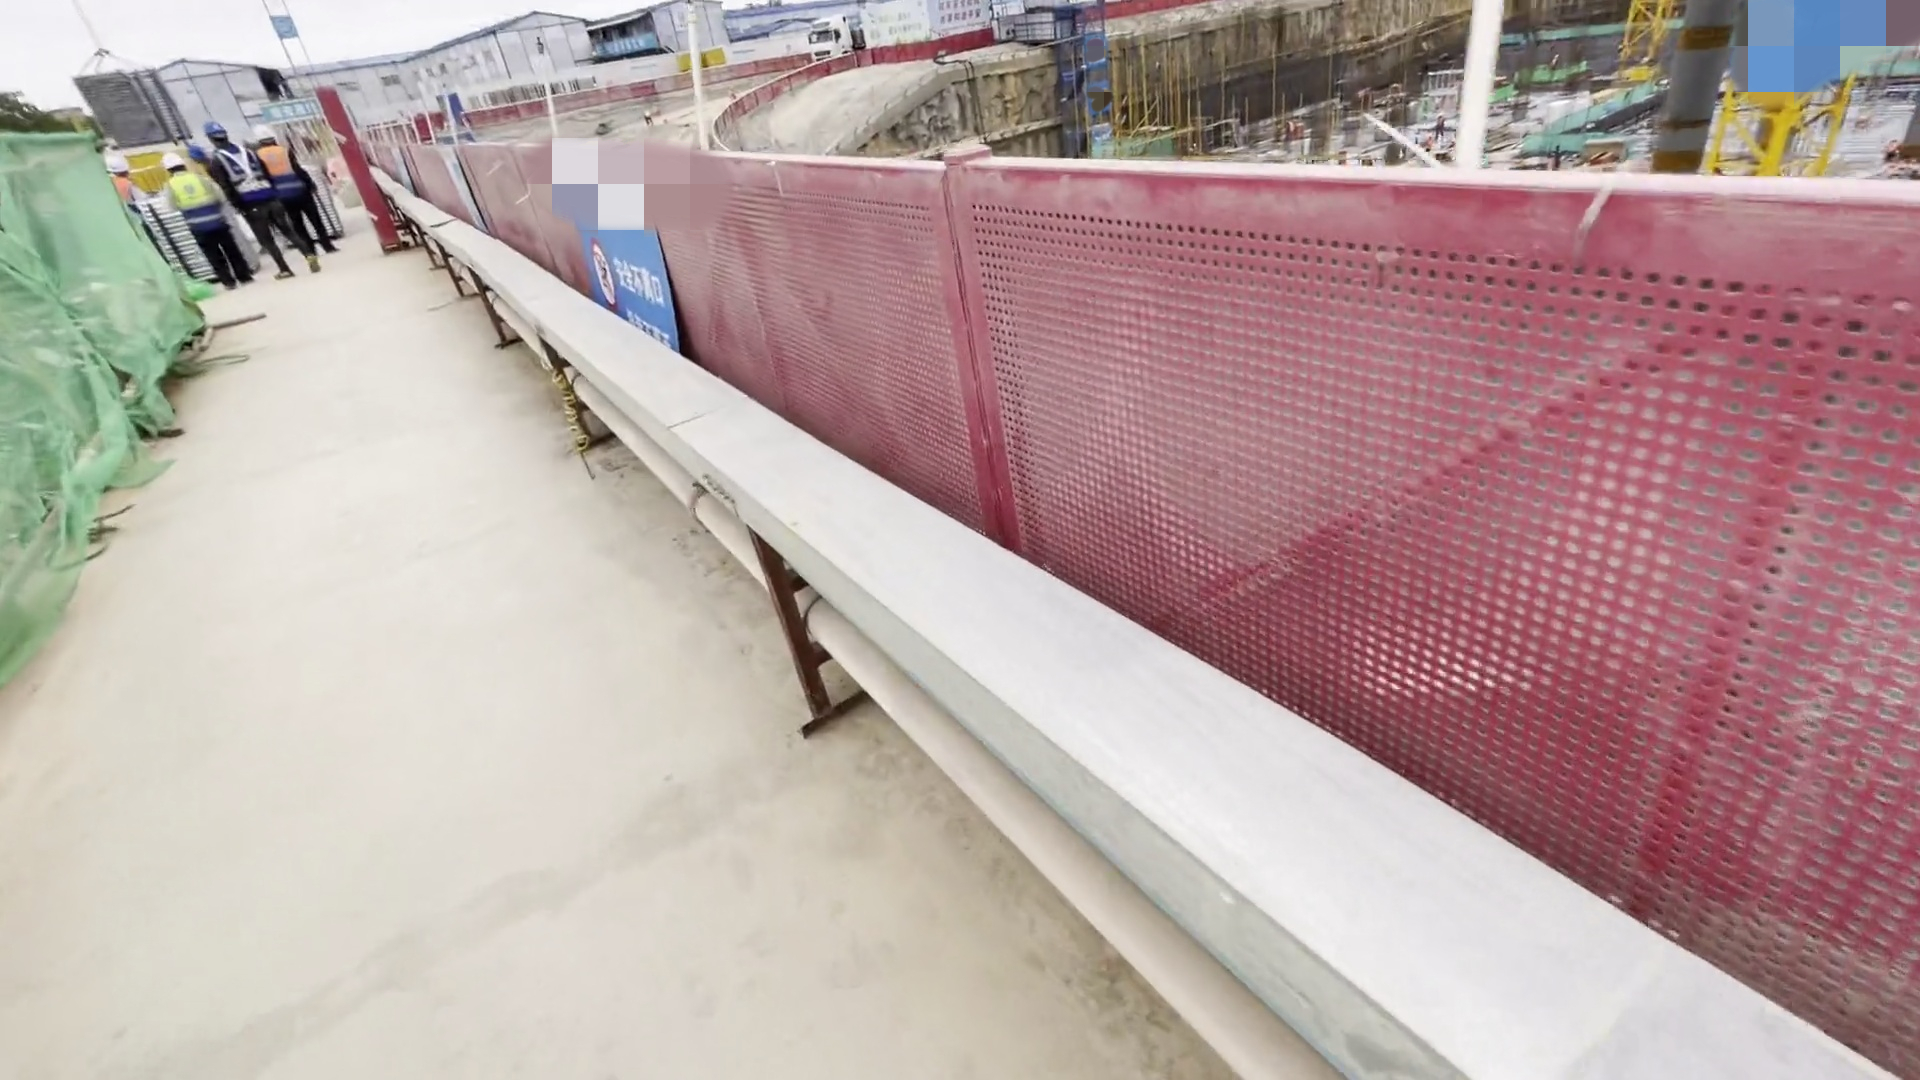helmet: (101, 148, 136, 184), (156, 149, 186, 185), (249, 123, 286, 146), (204, 116, 235, 142)
person: (245, 116, 380, 264), (197, 104, 295, 286), (154, 149, 261, 306), (100, 142, 150, 230)
vest: (211, 143, 267, 208), (261, 143, 310, 203), (161, 172, 218, 217), (109, 171, 150, 225)
